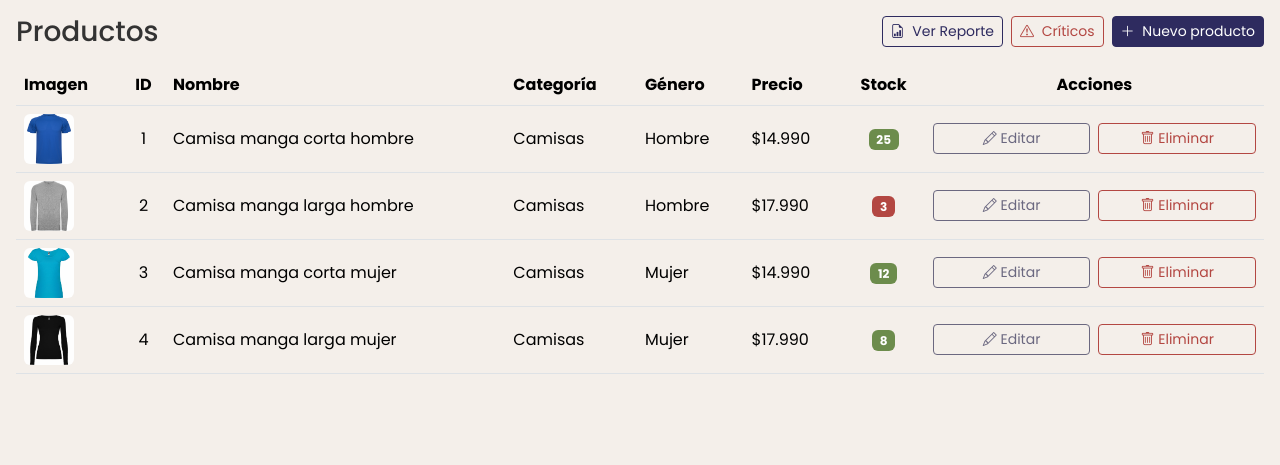
ProductosAdmin › muestra el 409 del servidor si el producto ya tiene ventas
Click the button "Eliminar" in the row of "Camisa manga corta hombre". click: [1177, 139]
box: [1098,123,1256,154]
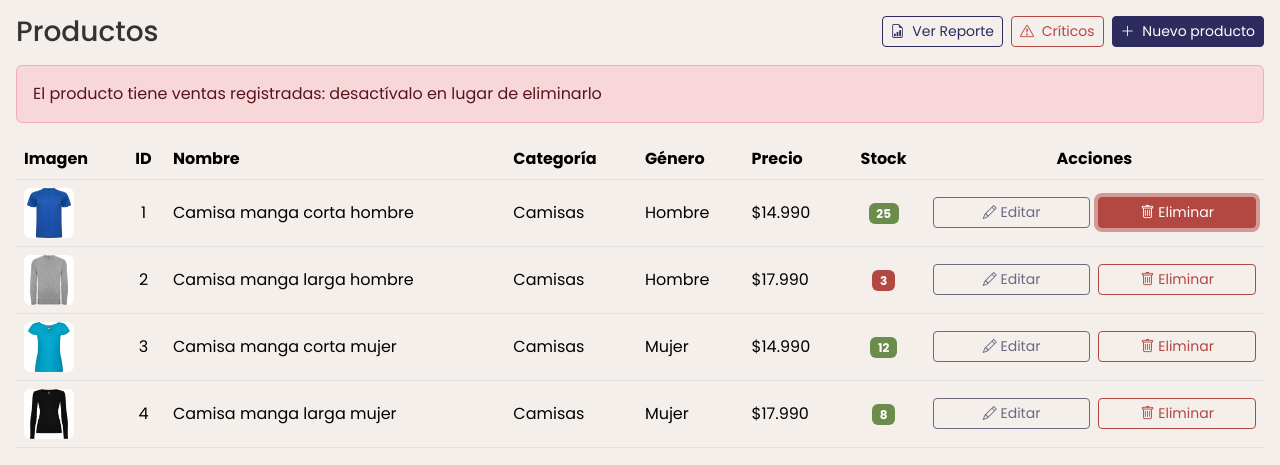
Check: the message shows "desactívalo en lugar de eliminarlo", box [33,82,602,105]
